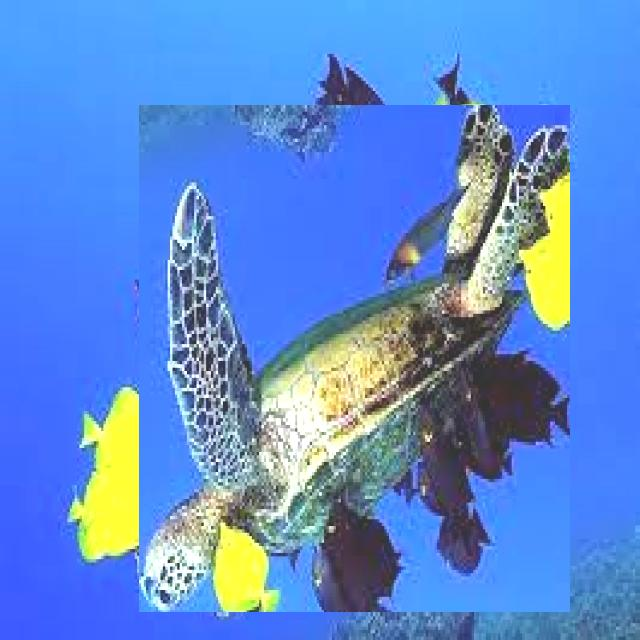Sea turtle: (139, 106, 570, 614)
